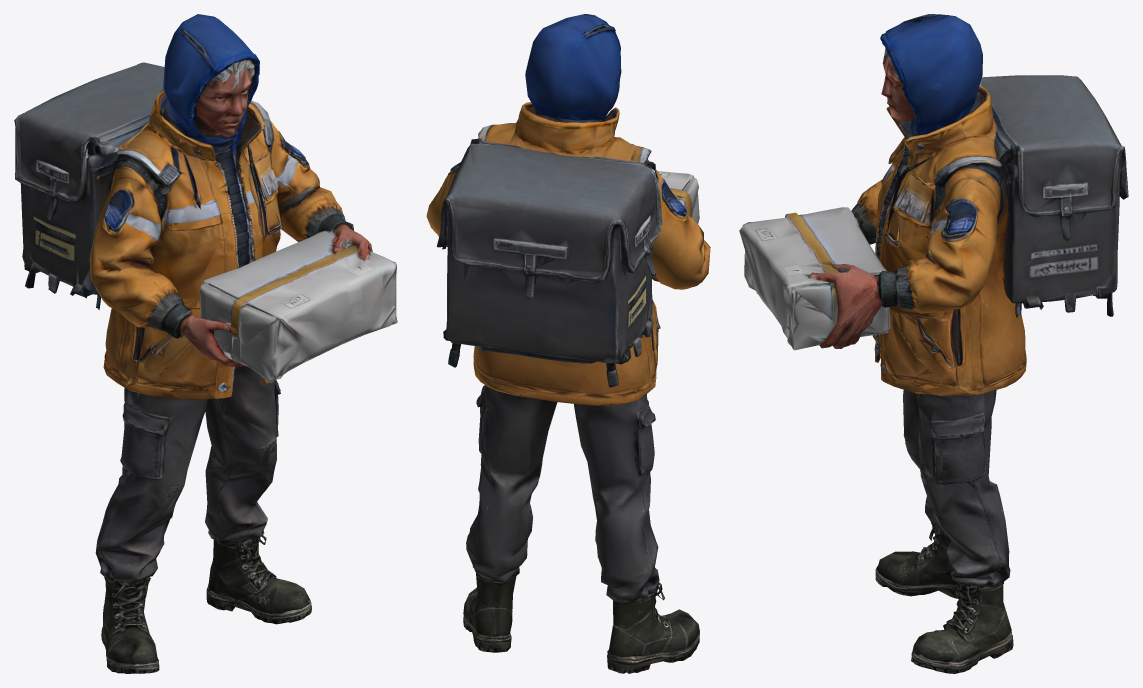
The model's file is night-porter.glb.
The picture shows the model from 3 angles, left to right: view 1: azimuth 30°, elevation 25°; view 2: azimuth 150°, elevation 25°; view 3: azimuth 270°, elevation 25°; orthographic projection.
Visible parts, largest first — view 1: SM_night_porter; view 2: SM_night_porter; view 3: SM_night_porter.
Part boxes in pixels (x1,y1,x2,y2): SM_night_porter: (14, 14, 397, 673); SM_night_porter: (426, 14, 710, 673); SM_night_porter: (739, 14, 1128, 673).
Size of the model in its own units: 0.7474 by 1.72 by 0.992.
1 material, 1 textured.
